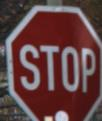Stop sign: (0, 0, 101, 120)
